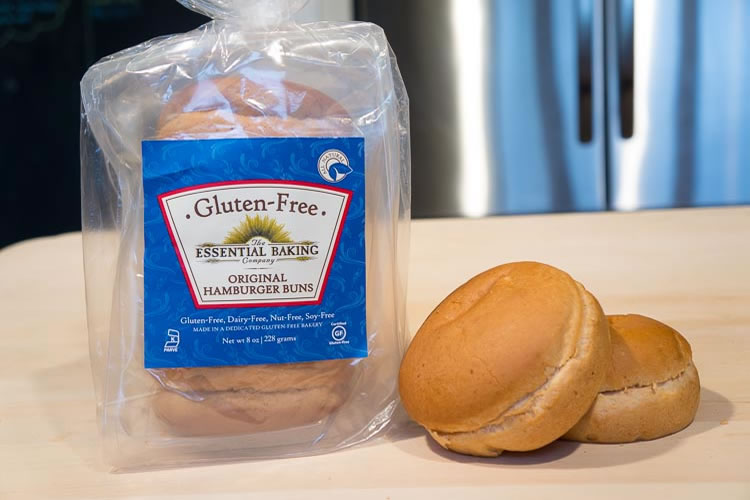hamburger_buns: (399, 249, 712, 481)
